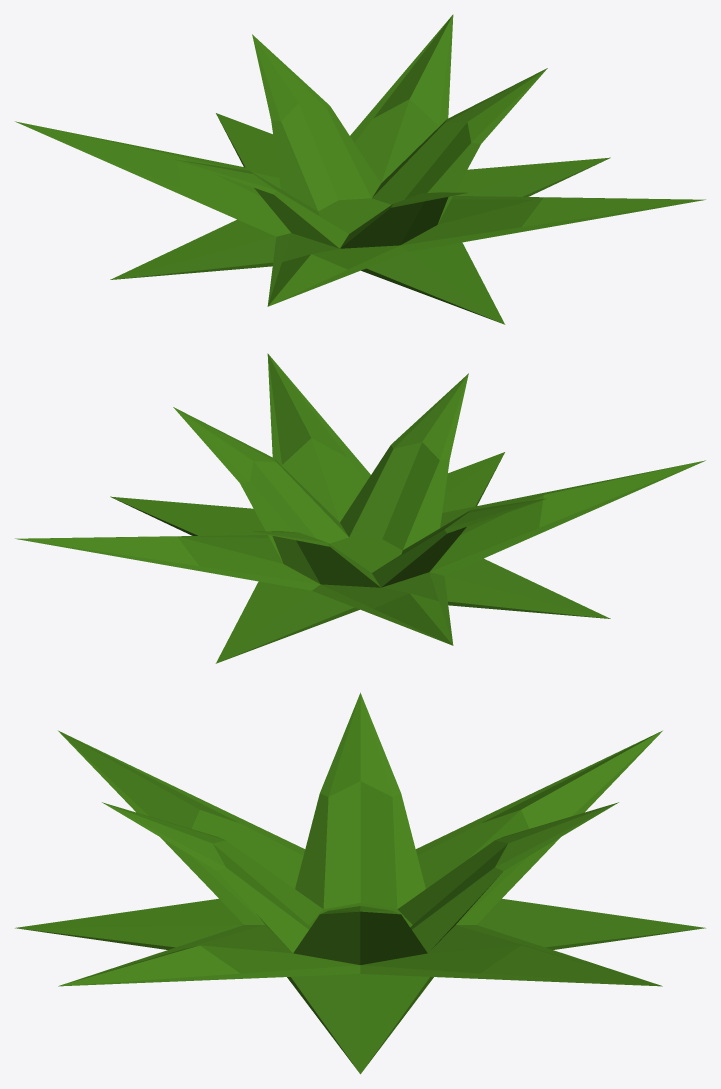
The model's file is Grass01.FBX.
The picture shows the model from 3 angles, top to bottom: view 1: azimuth 30°, elevation 25°; view 2: azimuth 150°, elevation 25°; view 3: azimuth 270°, elevation 25°; orthographic projection. The views are drawn at different scales.
Visible parts, largest first — view 1: Cylinder001; view 2: Cylinder001; view 3: Cylinder001.
Part boxes in pixels (x1,y1,x2,y2): Cylinder001: (15,14,705,324); Cylinder001: (15,353,705,663); Cylinder001: (15,692,705,1074).
Size of the model in its own units: 10 by 10 by 2.06.
